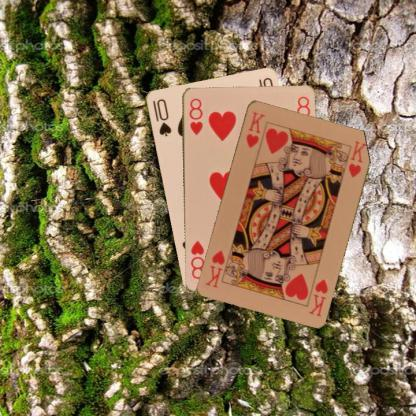10s: (150, 96, 172, 137)
8h: (186, 95, 204, 136)
Kh: (306, 276, 329, 318), (244, 108, 266, 150)
